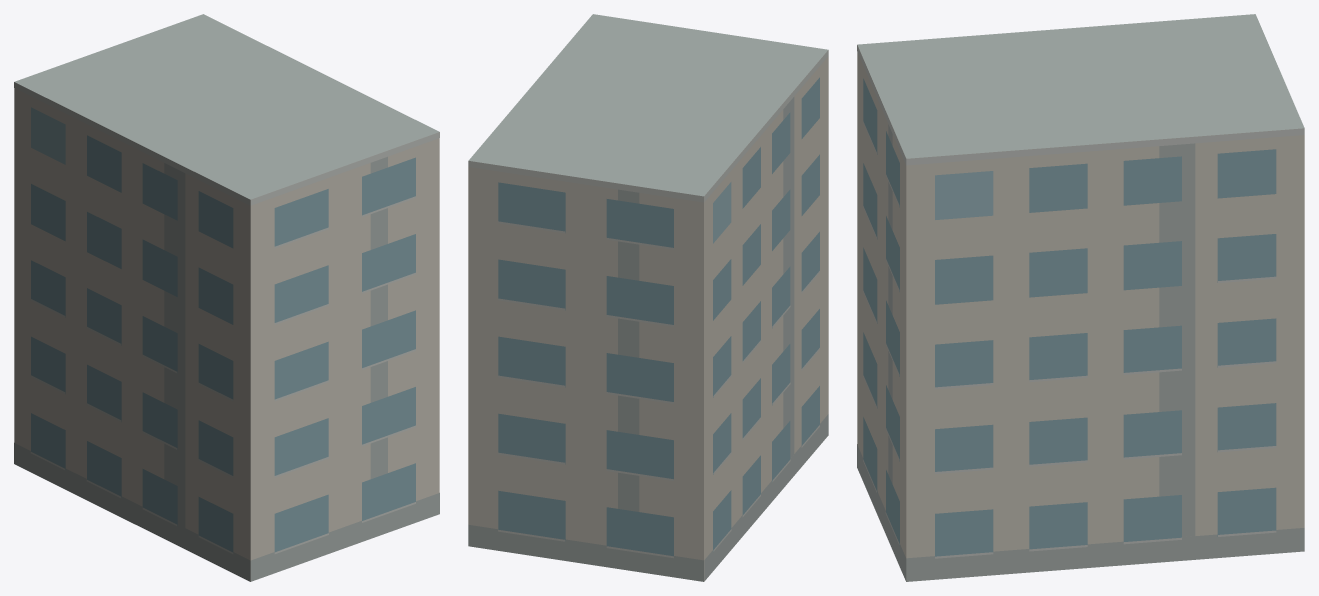
Rendered from residential-272b8307-b510-4341-83cc-71386084341a.glb.
The picture shows the model from 3 angles, left to right: view 1: azimuth 30°, elevation 25°; view 2: azimuth 150°, elevation 25°; view 3: azimuth 270°, elevation 25°; orthographic projection. The views are drawn at different scales.
Parts seen in each view (by area): view 1: residential-272b8307-b510-4341-83cc-71386084341a.tmp; view 2: residential-272b8307-b510-4341-83cc-71386084341a.tmp; view 3: residential-272b8307-b510-4341-83cc-71386084341a.tmp.
Part boxes in pixels (left/top/right/bottom): residential-272b8307-b510-4341-83cc-71386084341a.tmp: left=14, top=14, right=439, bottom=581; residential-272b8307-b510-4341-83cc-71386084341a.tmp: left=468, top=14, right=828, bottom=581; residential-272b8307-b510-4341-83cc-71386084341a.tmp: left=857, top=14, right=1304, bottom=581.
Bounding box in the file's own units: 11.2 × 15.25 × 14.63.
